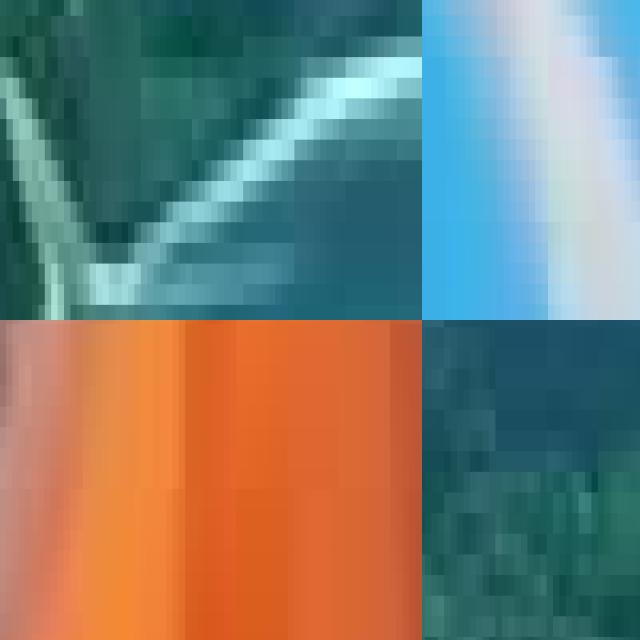fish: (0, 0, 422, 320), (422, 0, 640, 320)
